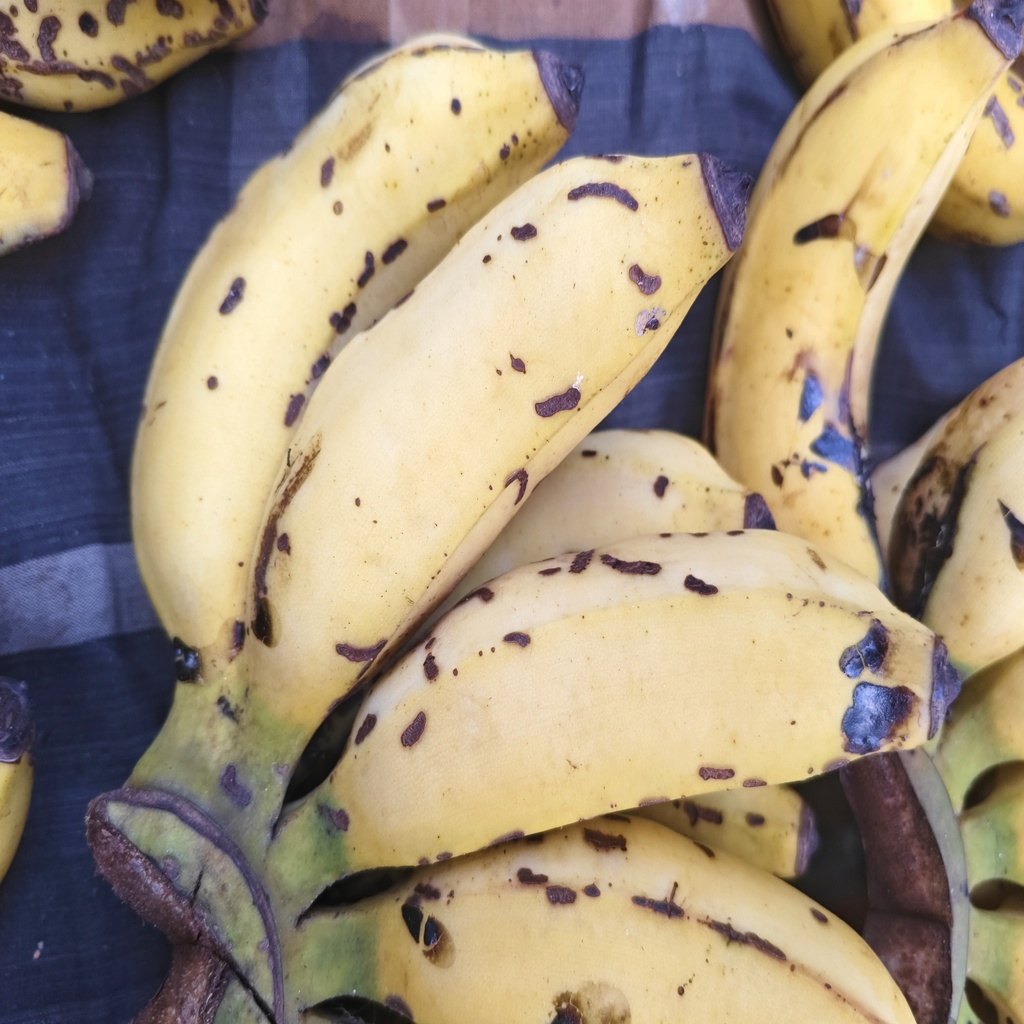unhealthy: (235, 150, 743, 718), (134, 47, 578, 670), (301, 531, 949, 862)
